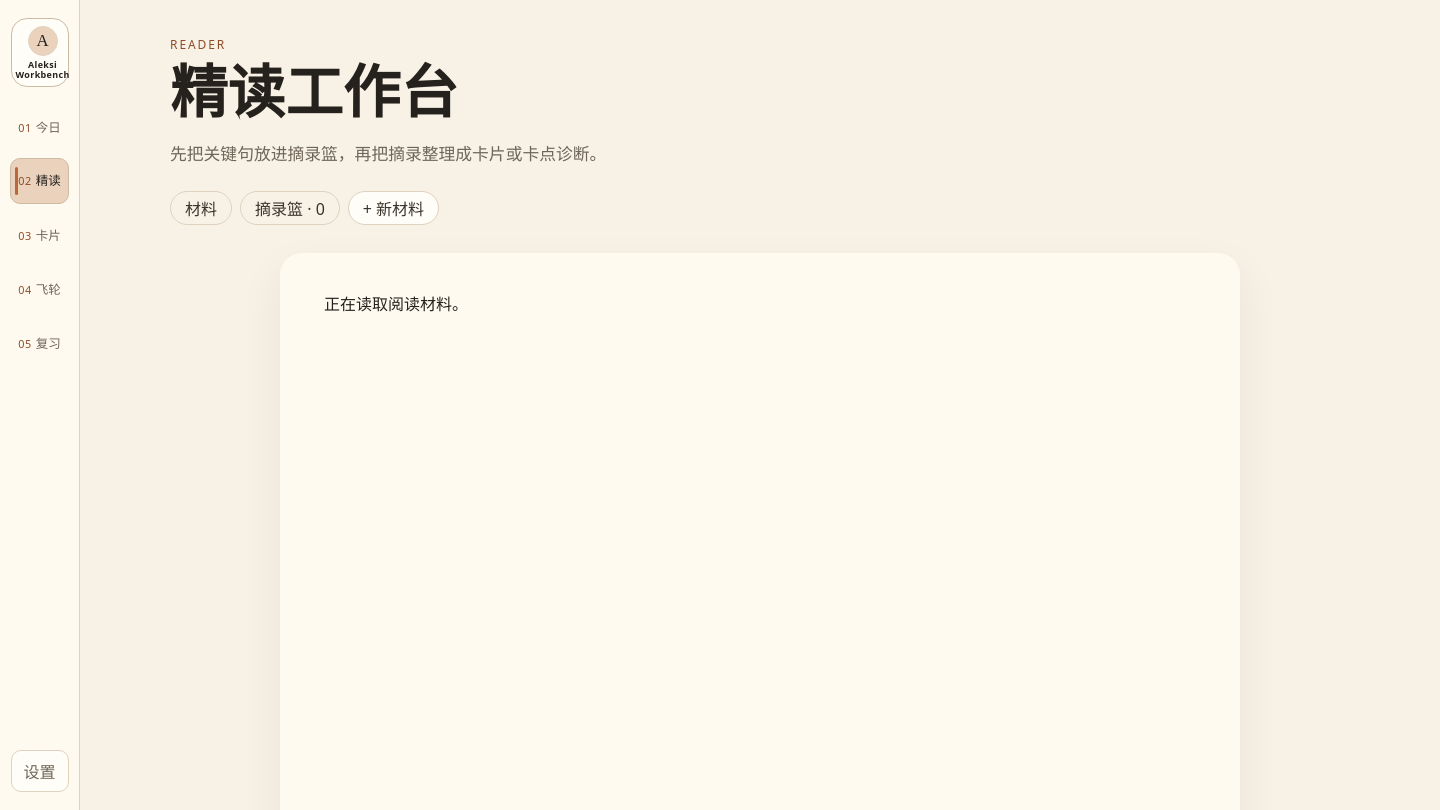
Test: Reader surface › keeps the first-run Reader focused on paste-to-read only
Expected: the heading "精读工作台" is shown, [170,62,458,125]
Expected: the field labelled "粘贴你要精读的内容" is not shown
Click the button "+ 新材料" at [393, 208], box [348,191,439,225]
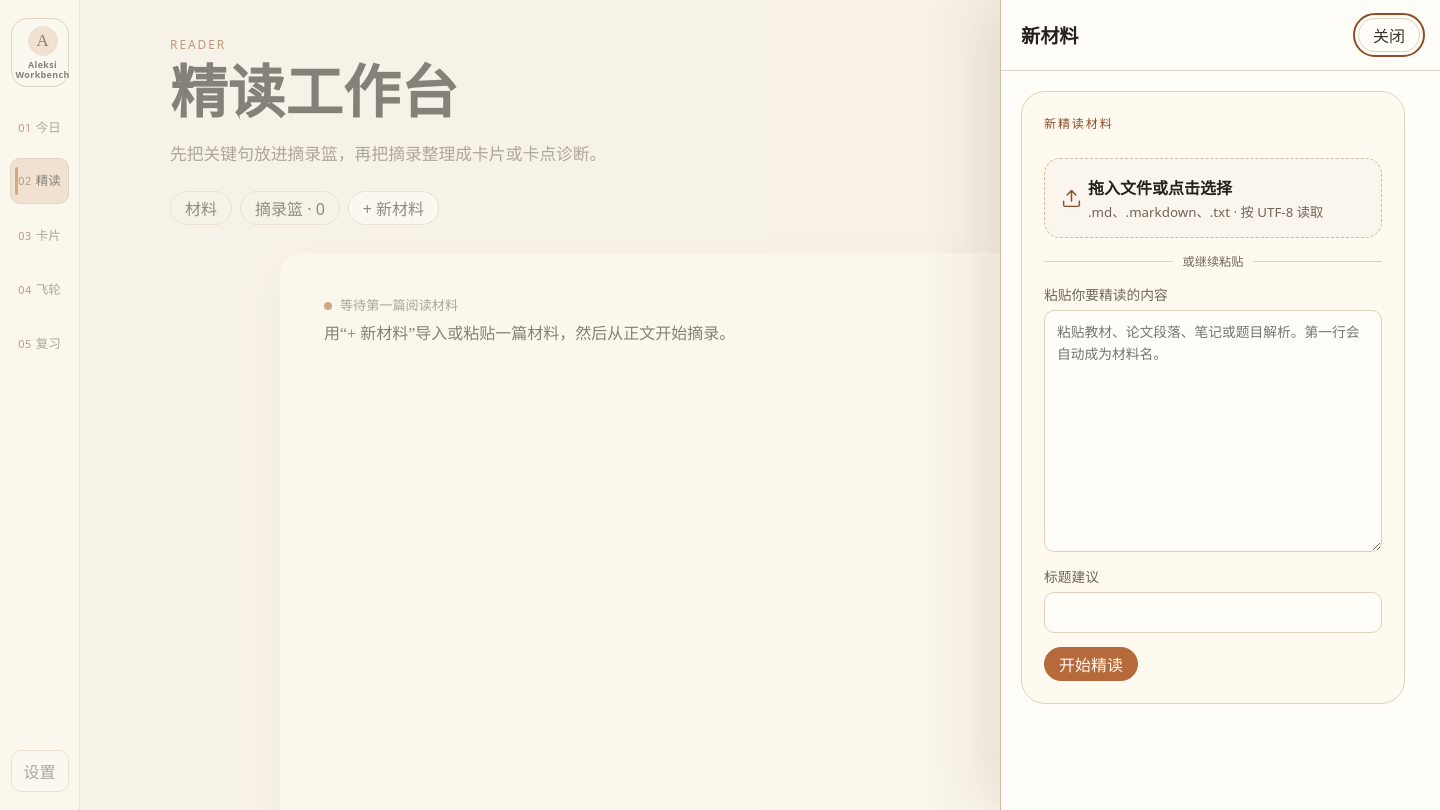
Expected: the dialog "新材料" is shown, [1000,0,1439,809]
Expected: the text box labelled "粘贴你要精读的内容" is shown, [1044,310,1382,552]
Expected: the button "开始精读" is shown, [1044,647,1138,681]
